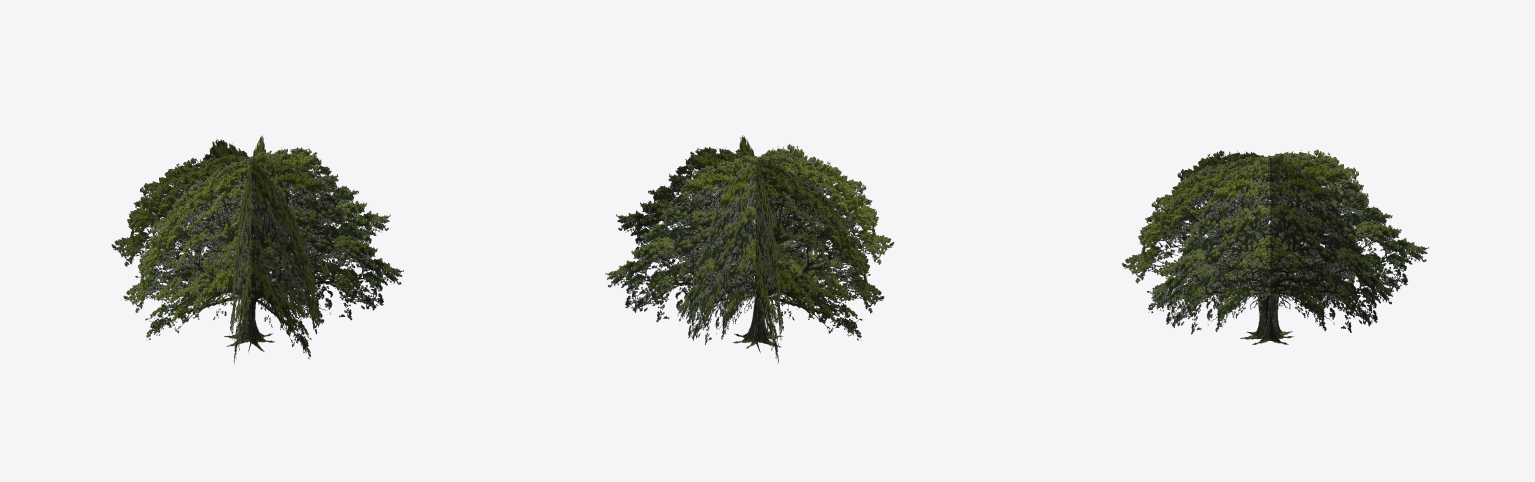
Rendered from eike_boom.fbx.
3 views of the same model, side by side, from view 1: azimuth 30°, elevation 25°; view 2: azimuth 150°, elevation 25°; view 3: azimuth 270°, elevation 25° (orthographic).
Visible parts, largest first — view 1: eike boom.007, eike boom.003, eike boom.002; view 2: eike boom.007, eike boom.003, eike boom.002; view 3: eike boom.007, eike boom.001, eike boom.002, eike boom.003.
Boxes of the visible parts, <box> form: eike boom.007: <box>114,135,403,358</box>; eike boom.003: <box>111,155,325,342</box>; eike boom.002: <box>230,227,252,364</box>; eike boom.007: <box>605,141,894,348</box>; eike boom.003: <box>737,135,781,363</box>; eike boom.002: <box>606,221,853,342</box>; eike boom.007: <box>1150,149,1393,344</box>; eike boom.001: <box>1121,153,1429,339</box>; eike boom.002: <box>1157,150,1388,344</box>; eike boom.003: <box>1150,157,1370,344</box>.
Bounding box in the file's own units: 188 × 100 × 188.
Materials: 1 (1 with a texture image).
